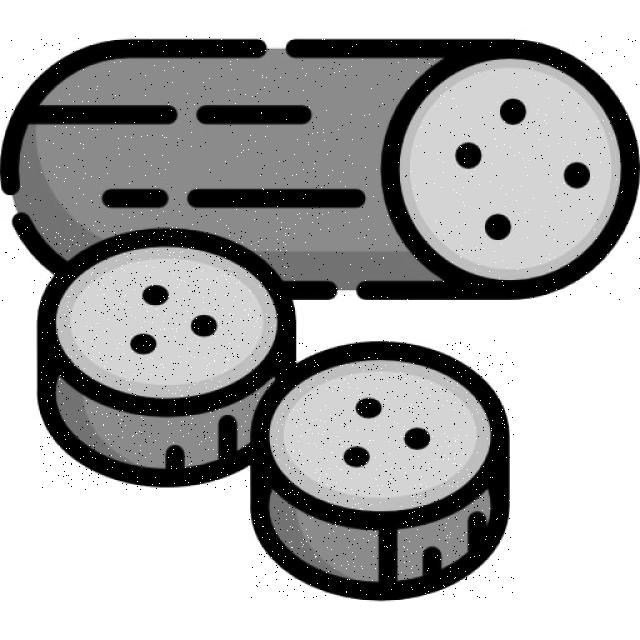cucumber: (1, 37, 640, 302), (247, 341, 515, 599), (41, 228, 296, 491)
